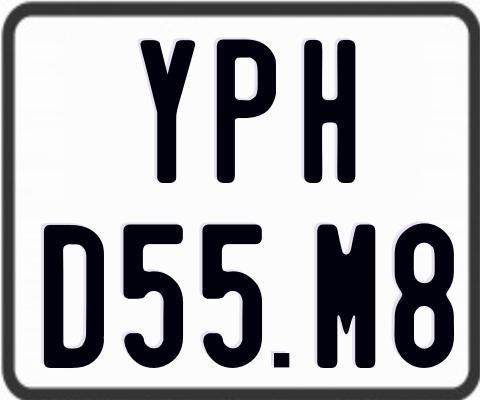5: (121, 223, 186, 367), (200, 224, 260, 373)
8: (393, 222, 455, 372)
D: (44, 225, 104, 373)
H: (303, 40, 359, 185)
M: (314, 224, 372, 370)
P: (215, 39, 274, 184)
Y: (140, 37, 201, 181)
